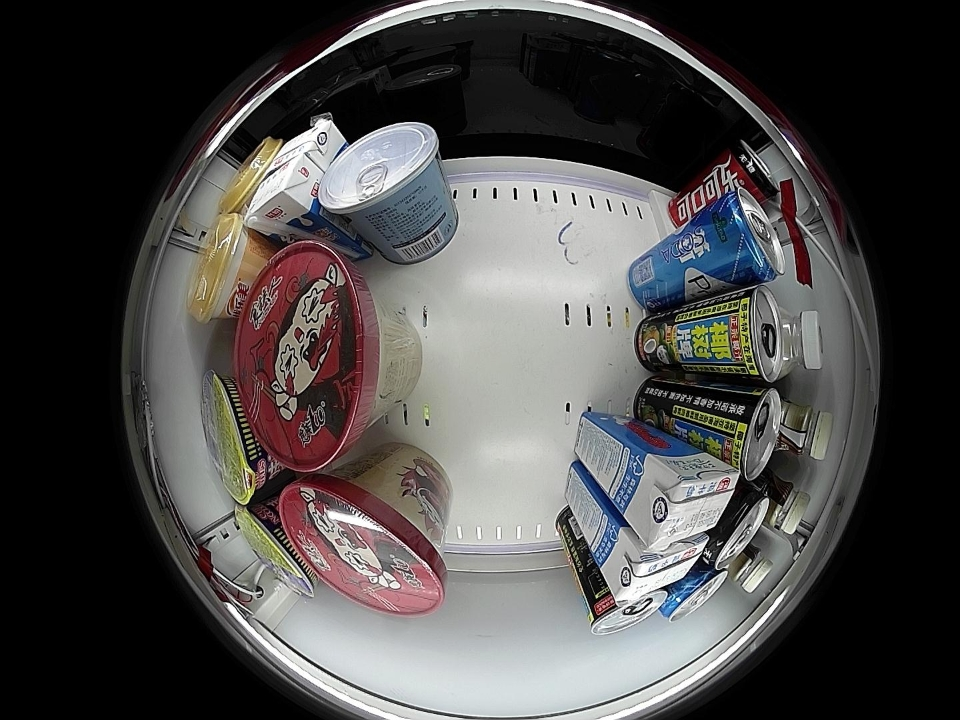haitai: (318, 121, 445, 231)
heweidao: (200, 369, 270, 506), (233, 500, 318, 601)
kafei: (775, 399, 832, 461), (755, 470, 810, 534), (725, 542, 774, 594)
lingdukele: (705, 489, 769, 570), (723, 140, 779, 199)
niunai: (633, 450, 740, 548), (607, 527, 709, 602), (246, 152, 324, 232), (266, 116, 342, 175)
qingdaowangzi-2: (707, 188, 785, 286), (661, 563, 728, 622)
suanlafen: (235, 241, 391, 472), (280, 471, 446, 617)
weiweidounai: (776, 309, 824, 380)
yezhi: (717, 385, 782, 481), (723, 287, 787, 383), (587, 586, 668, 636)
youlemei: (187, 212, 262, 325), (220, 138, 279, 215)
